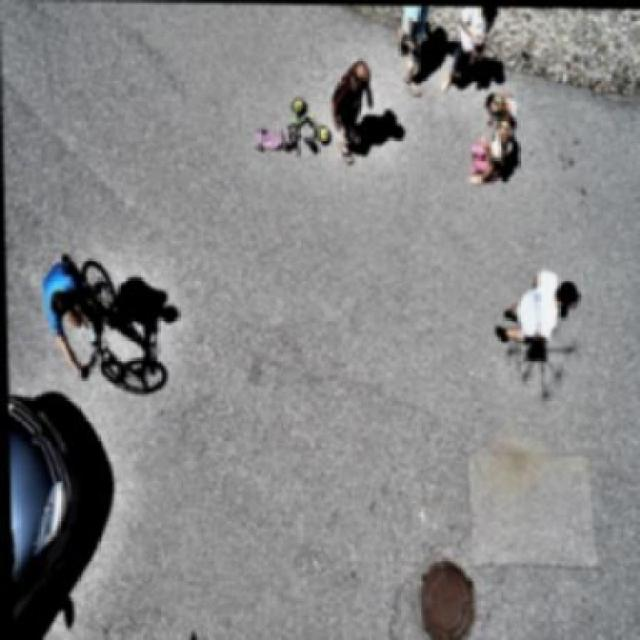Person: (488, 259, 588, 353), (458, 84, 530, 185), (39, 253, 95, 379), (435, 5, 510, 89), (324, 56, 379, 164), (390, 4, 447, 88)
